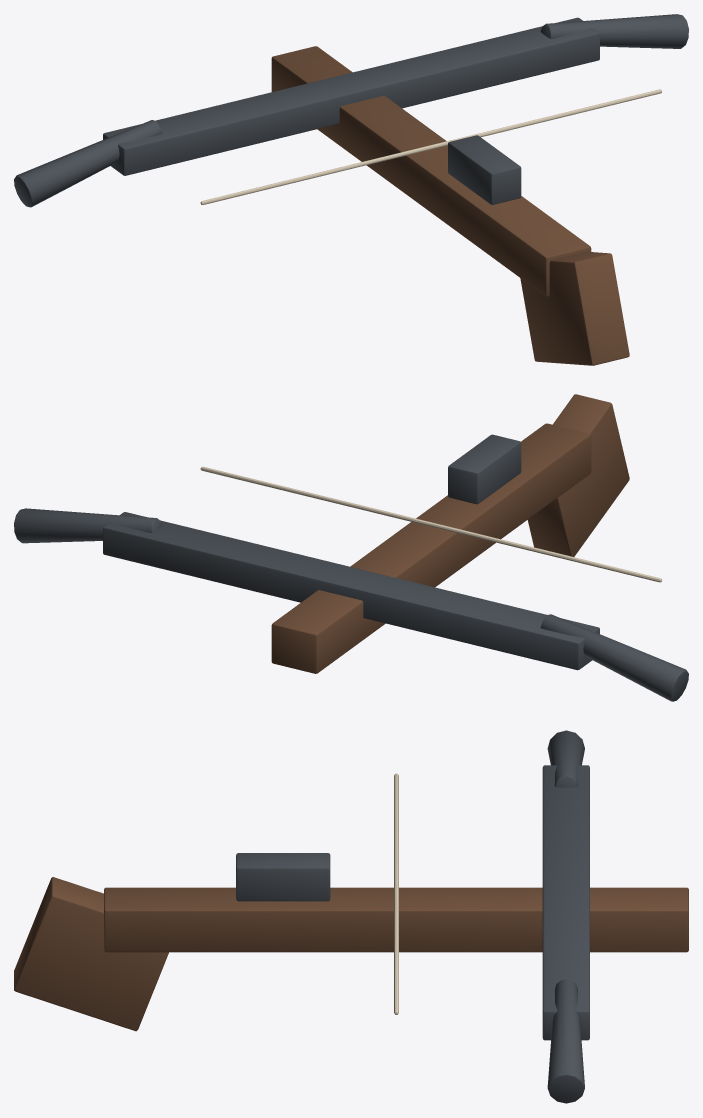
File: weapon_crossbow.glb
3 renders of one model, top to bottom at view 1: azimuth 30°, elevation 25°; view 2: azimuth 150°, elevation 25°; view 3: azimuth 270°, elevation 25°, orthographic. The views are drawn at different scales.
Parts seen in each view (by area): view 1: Crossbow; view 2: Crossbow; view 3: Crossbow.
Boxes of the visible parts, left/top/right/bottom form: Crossbow: left=14, top=14, right=688, bottom=365; Crossbow: left=14, top=394, right=688, bottom=701; Crossbow: left=14, top=730, right=688, bottom=1103.
Bounding box in the file's own units: 0.8633 × 0.1895 × 0.7154.
